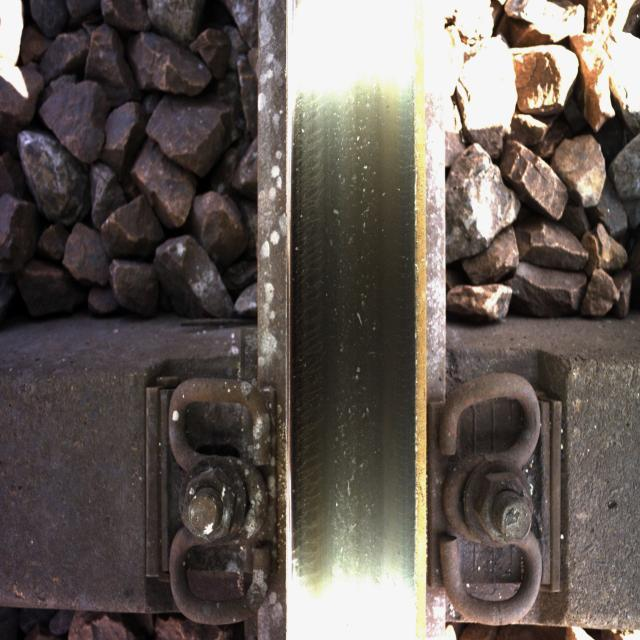normal: (296, 45, 405, 587)
